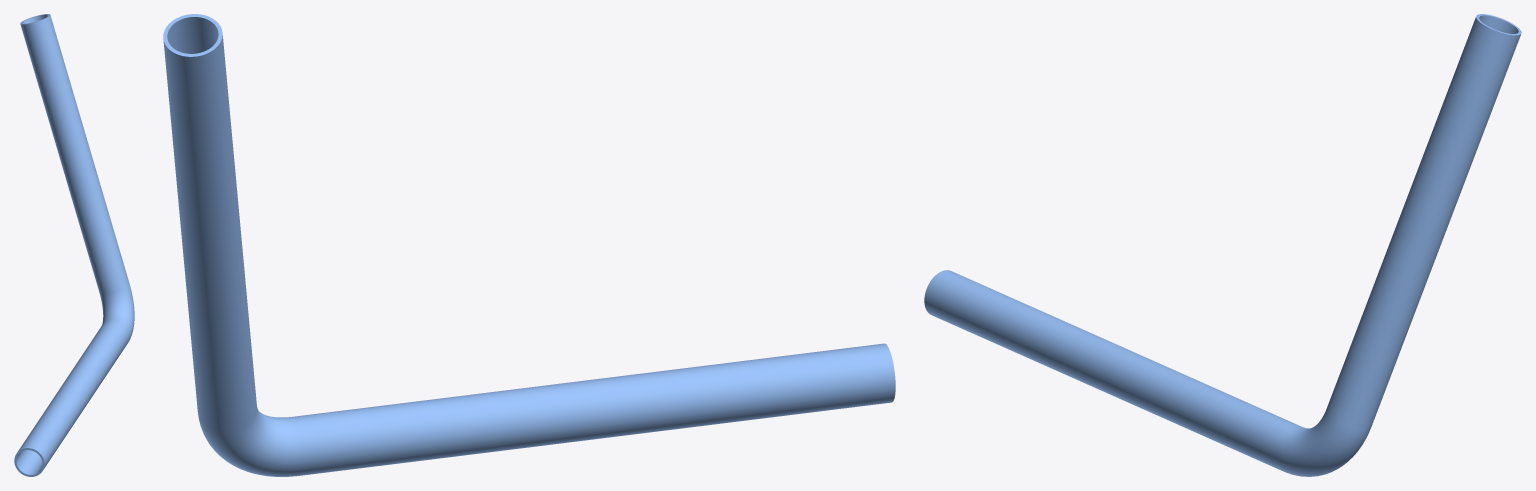
Rendered from test animation fbx.fbx.
3 renders of one model, left to right at view 1: azimuth 30°, elevation 25°; view 2: azimuth 150°, elevation 25°; view 3: azimuth 270°, elevation 25°, orthographic. The views are drawn at different scales.
Visible parts, largest first — view 1: Sweep; view 2: Sweep; view 3: Sweep.
Boxes of the visible parts, x1,y1,x2,y2 form: Sweep: [14, 14, 134, 476]; Sweep: [163, 14, 895, 476]; Sweep: [924, 14, 1521, 476].
Size of the model in its own units: 141 by 162 by 197.
